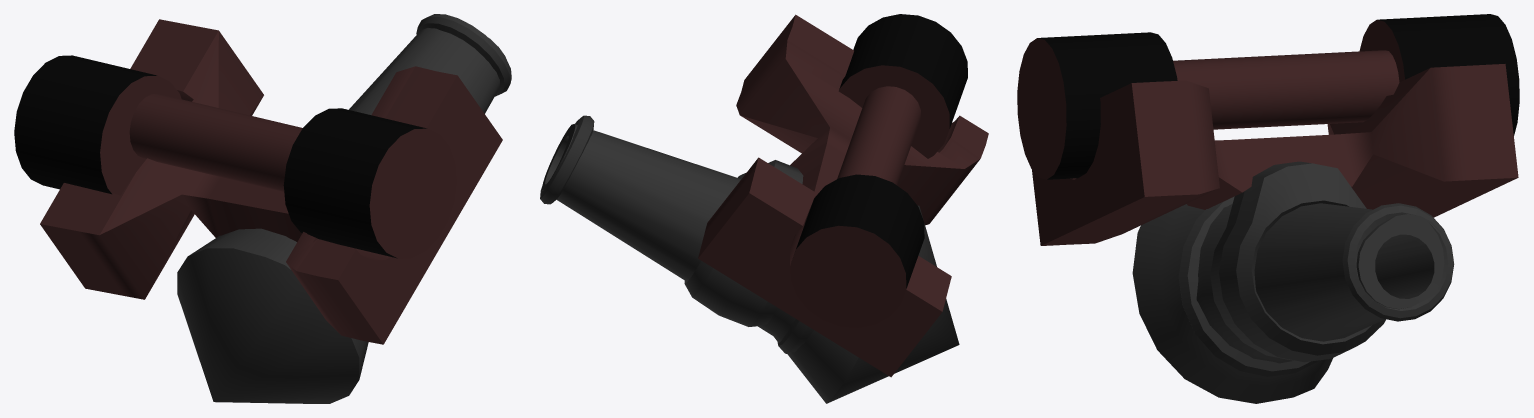
Rendered from CannonQuad.fbx.
3 renders of one model, left to right at view 1: azimuth 30°, elevation 25°; view 2: azimuth 150°, elevation 25°; view 3: azimuth 270°, elevation 25°, orthographic. The views are drawn at different scales.
Parts seen in each view (by area): view 1: polySurface9; view 2: polySurface9; view 3: polySurface9.
Part boxes in pixels (left/top/right/bottom): polySurface9: left=14, top=14, right=511, bottom=403; polySurface9: left=540, top=14, right=988, bottom=403; polySurface9: left=1017, top=14, right=1519, bottom=403.
Bounding box in the file's own units: 62.83 × 46.14 × 56.5.
